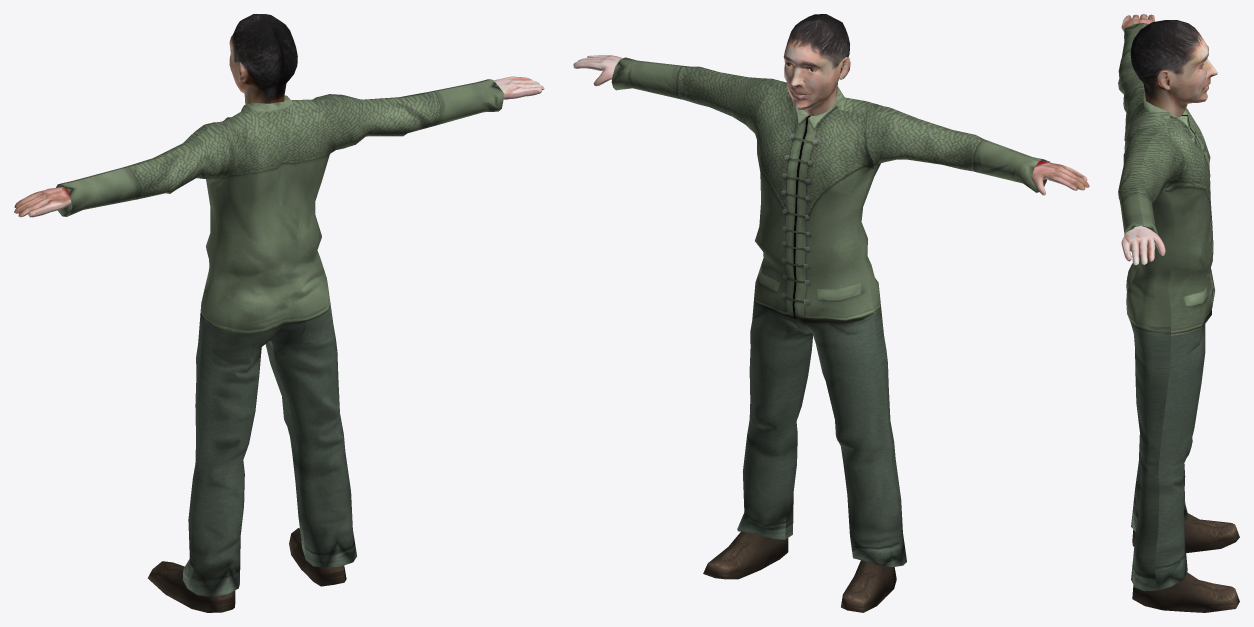
Rendered from civ_male03.glb.
The picture shows the model from 3 angles, left to right: view 1: azimuth 30°, elevation 25°; view 2: azimuth 150°, elevation 25°; view 3: azimuth 270°, elevation 25°; orthographic projection. The views are drawn at different scales.
Parts seen in each view (by area): view 1: cman0003-t; view 2: cman0003-t; view 3: cman0003-t.
Boxes of the visible parts, bbox=[...] form: cman0003-t: bbox=[14, 14, 544, 612]; cman0003-t: bbox=[573, 14, 1089, 612]; cman0003-t: bbox=[1118, 14, 1239, 612].
Bounding box in the file's own units: 90.61 × 94.05 × 18.82.
Materials: 1 (1 with a texture image).
